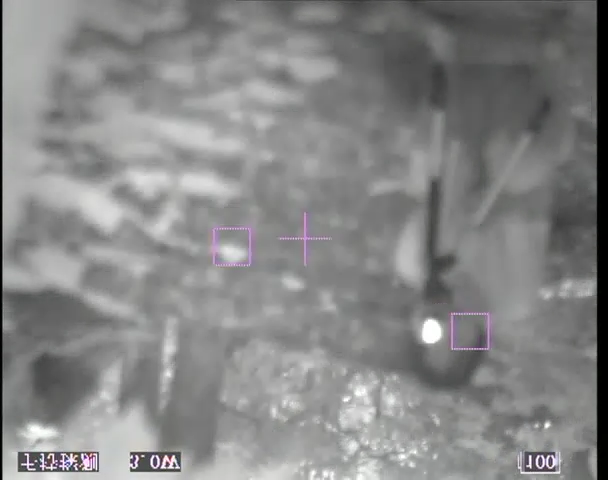my: (420, 318, 444, 343)
